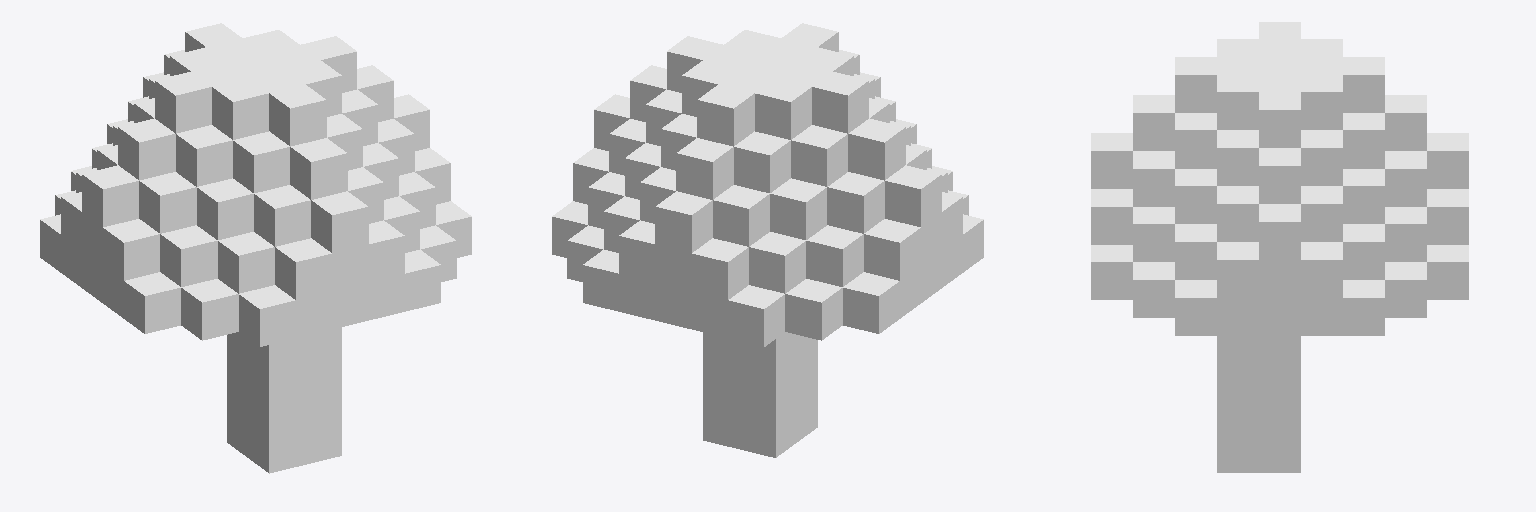
File: Env_Obj_Clutter_MushroomSingle.obj
3 views of the same model, side by side, from view 1: azimuth 30°, elevation 25°; view 2: azimuth 150°, elevation 25°; view 3: azimuth 270°, elevation 25° (orthographic).
Parts seen in each view (by area): view 1: Env_Obj_Clutter_MushroomSingle; view 2: Env_Obj_Clutter_MushroomSingle; view 3: Env_Obj_Clutter_MushroomSingle.
Part boxes in pixels (x1,y1,x2,y2): Env_Obj_Clutter_MushroomSingle: (40,23,471,473); Env_Obj_Clutter_MushroomSingle: (552,23,983,457); Env_Obj_Clutter_MushroomSingle: (1091,22,1468,472).
Bounding box in the file's own units: 0.9 × 1 × 0.9.